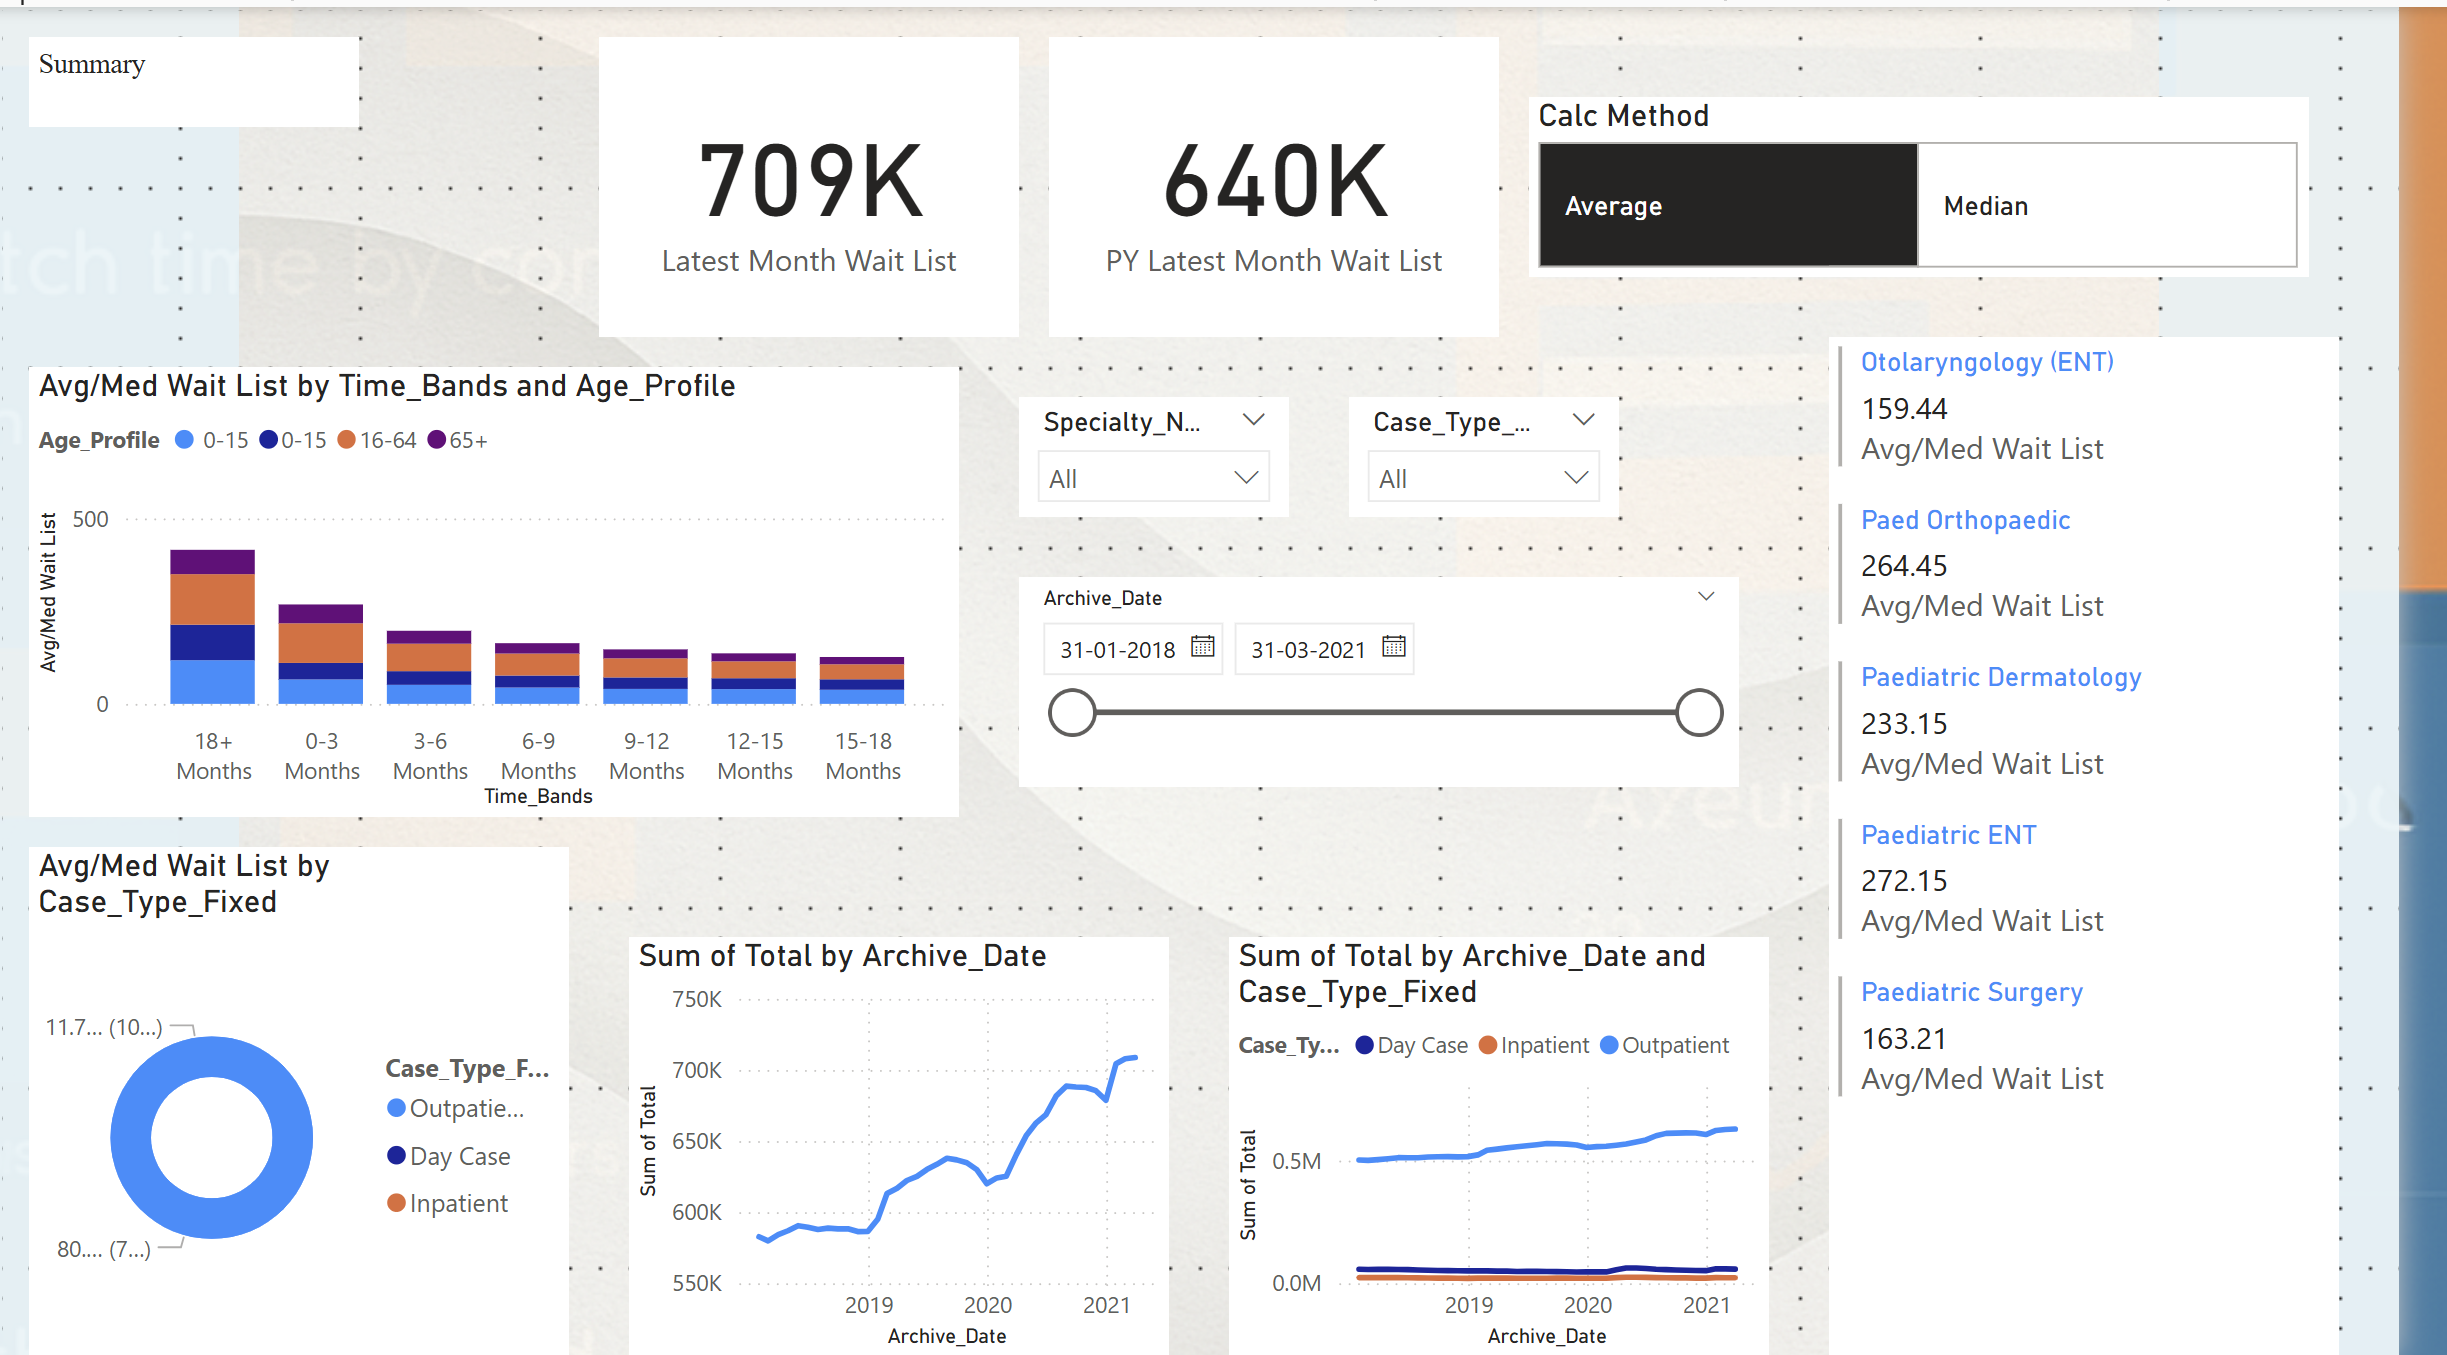

The page's visual inventory and layout, read from the dashboard file:
{"tool":"powerbi","page":{"name":"Page 1","canvas":[1280,720],"ordinal":0},"visuals":[{"type":"card","fields":{"Values":["All_Data.Latest Month Wait List"]},"box":[16,0,256,160],"z":0},{"type":"card","fields":{"Values":["All_Data.PY Latest Month Wait List"]},"box":[288,0,288,176],"z":1000},{"type":"advancedSlicerVisual","fields":{"Values":["Caluclation Method.Columcal methodn1"]},"box":[800,16,416,96],"z":2000},{"type":"donutChart","fields":{"Category":["All_Data.Case_Type"],"Y":["All_Data.Avg/Med Wait List"]},"box":[0,192,288,288],"z":3000},{"type":"columnChart","fields":{"Y":["All_Data.Avg/Med Wait List"],"Category":["All_Data.Time_Bands"],"Series":["All_Data.Age_Profile"]},"box":[320,192,576,240],"z":4000},{"type":"multiRowCard","fields":{"Values":["All_Data.Speciality_Name","All_Data.Avg/Med Wait List"]},"box":[1008,160,272,400],"z":5000},{"type":"lineChart","fields":{"Category":["All_Data.Archive_Date"],"Series":["All_Data.Case_Type"],"Y":["Sum(All_Data.Total)"]},"box":[0,490,288,230],"z":6000},{"type":"lineChart","fields":{"Category":["All_Data.Archive_Date"],"Series":["All_Data.Case_Type"],"Y":["Sum(All_Data.Total)"],"Rows":["All_Data.Case_type 2"]},"box":[400,496,288,224],"z":7000}]}

Visuals, with their boxes in screenshot pixels (x1, y1, x2, y2), scaled from the page's 1280x720 canvas onto the 2447x1355 screenshot:
card - All_Data.Latest Month Wait List: x1=31 y1=0 x2=520 y2=301
card - All_Data.PY Latest Month Wait List: x1=551 y1=0 x2=1101 y2=331
advancedSlicerVisual - Caluclation Method.Columcal methodn1: x1=1529 y1=30 x2=2325 y2=211
donutChart - All_Data.Case_Type x All_Data.Avg/Med Wait List: x1=0 y1=361 x2=551 y2=903
columnChart - All_Data.Avg/Med Wait List x All_Data.Time_Bands: x1=612 y1=361 x2=1713 y2=813
multiRowCard - All_Data.Speciality_Name x All_Data.Avg/Med Wait List: x1=1927 y1=301 x2=2446 y2=1054
lineChart - All_Data.Archive_Date x All_Data.Case_Type: x1=0 y1=922 x2=551 y2=1354
lineChart - All_Data.Archive_Date x All_Data.Case_Type: x1=765 y1=933 x2=1315 y2=1354
